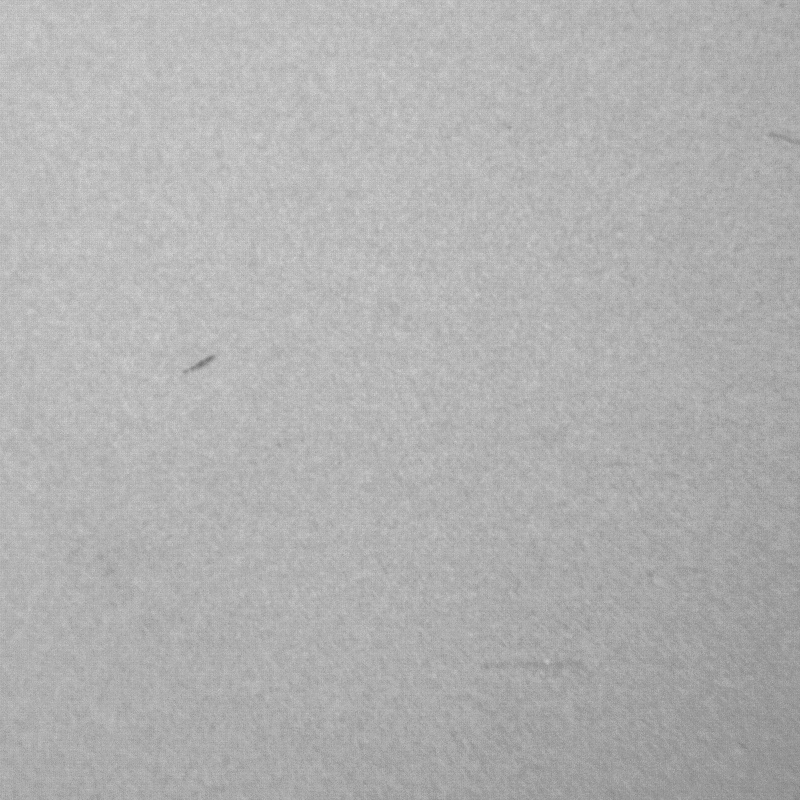defect: (480, 662, 586, 672), (187, 353, 217, 373), (769, 130, 800, 147)
